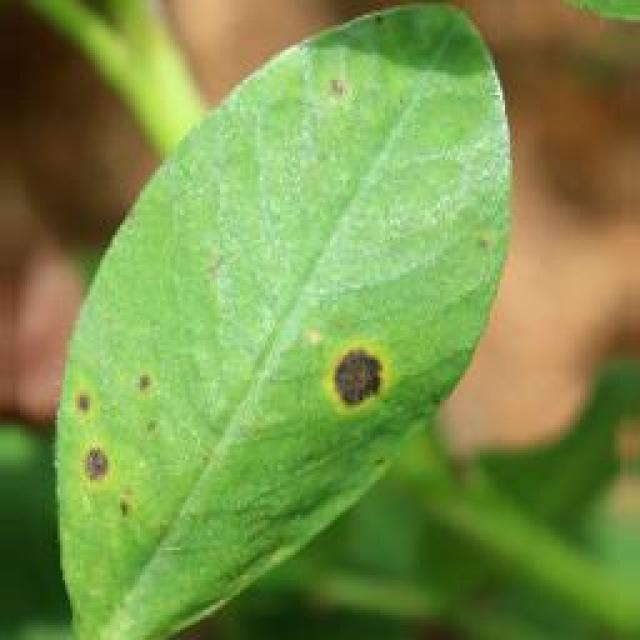Sigatoka: (44, 353, 182, 517), (300, 324, 407, 437), (314, 51, 376, 128)
